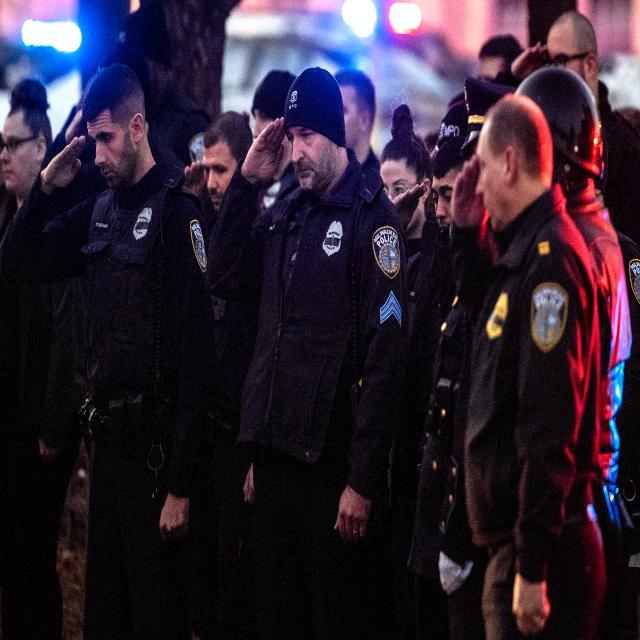police: (215, 71, 413, 640), (28, 79, 214, 640), (452, 86, 617, 640)
